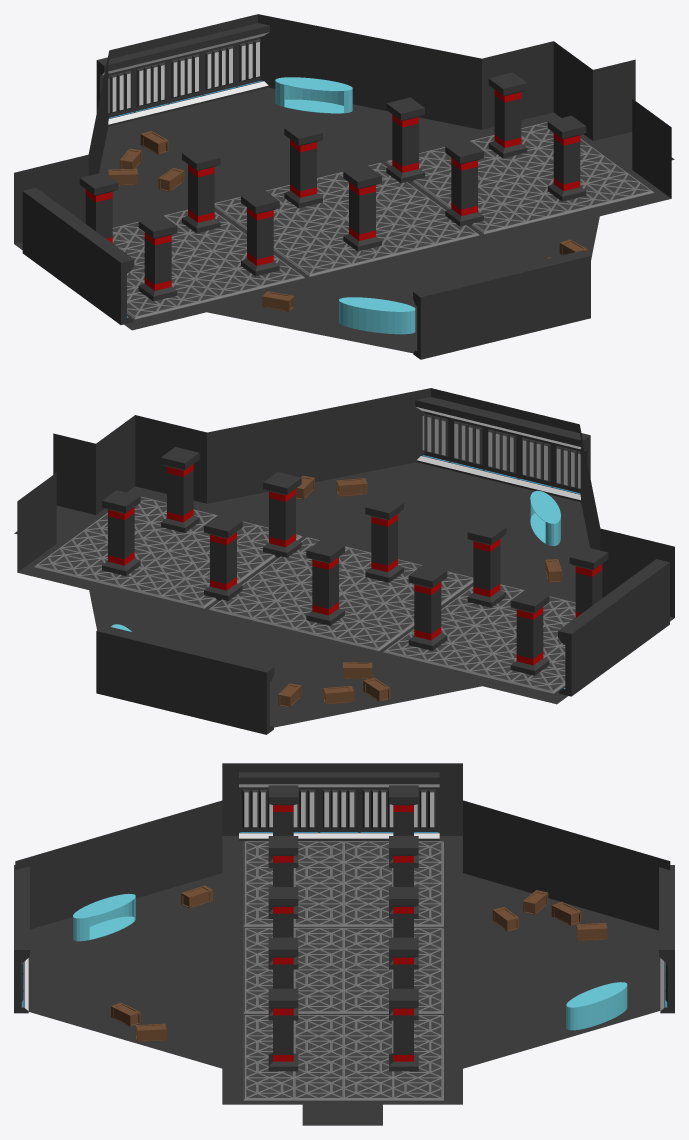
The picture shows the model from 3 angles, top to bottom: view 1: azimuth 30°, elevation 25°; view 2: azimuth 150°, elevation 25°; view 3: azimuth 270°, elevation 25°; orthographic projection.
Parts seen in each view (by area): view 1: LeftShip1-col-col, Plane.006-col, Plane.004-col, Plane.007-col, Wall1.005-col, ControlPanel.002-col, LeftShip1-col.001-col, LeftShip1-col.002-col, LeftShip1-col.009-col, Wall1.004-col, ControlPanel.001-col, Wall1.003-col (+20 smaller); view 2: LeftShip1-col-col, Plane.006-col, Plane.004-col, Plane.007-col, Wall1.006-col, LeftShip1-col.007-col, LeftShip1-col.010-col, LeftShip1-col.008-col, Wall1.009-col, Wall1.008-col, Wall1.010-col, Wall1.007-col (+20 smaller); view 3: LeftShip1-col-col, Plane.004-col, Plane.007-col, Plane.006-col, Wall1.013-col, Wall1.014-col, Wall1.011-col, ControlPanel.001-col, ControlPanel.002-col, LeftShip1-col.001-col, LeftShip1-col.002-col, Wall1.012-col (+14 smaller).
Boxes of the visible parts, x1=… form: LeftShip1-col-col: x1=14, y1=14, x2=674, y2=353; Plane.006-col: x1=214, y1=162, x2=479, y2=276; Plane.004-col: x1=385, y1=122, x2=654, y2=234; Plane.007-col: x1=112, y1=209, x2=304, y2=319; Wall1.005-col: x1=413, y1=283, x2=454, y2=359; ControlPanel.002-col: x1=275, y1=77, x2=352, y2=113; LeftShip1-col.001-col: x1=547, y1=115, x2=586, y2=201; LeftShip1-col.002-col: x1=488, y1=72, x2=527, y2=158; LeftShip1-col.009-col: x1=138, y1=215, x2=177, y2=301; Wall1.004-col: x1=447, y1=275, x2=488, y2=351; ControlPanel.001-col: x1=339, y1=297, x2=415, y2=334; Wall1.003-col: x1=481, y1=267, x2=522, y2=342; LeftShip1-col-col: x1=14, y1=388, x2=674, y2=727; Plane.006-col: x1=208, y1=537, x2=473, y2=651; Plane.004-col: x1=33, y1=496, x2=302, y2=608; Plane.007-col: x1=383, y1=584, x2=575, y2=694; Wall1.006-col: x1=232, y1=658, x2=274, y2=734; LeftShip1-col.007-col: x1=467, y1=521, x2=506, y2=607; LeftShip1-col.010-col: x1=510, y1=590, x2=549, y2=675; LeftShip1-col.008-col: x1=408, y1=565, x2=447, y2=650; Wall1.009-col: x1=130, y1=633, x2=171, y2=709; Wall1.008-col: x1=164, y1=642, x2=205, y2=718; Wall1.010-col: x1=96, y1=625, x2=137, y2=701; Wall1.007-col: x1=198, y1=650, x2=239, y2=726; LeftShip1-col-col: x1=15, y1=763, x2=670, y2=1125; Plane.004-col: x1=243, y1=1015, x2=443, y2=1100; Plane.007-col: x1=243, y1=841, x2=443, y2=927; Plane.006-col: x1=243, y1=928, x2=443, y2=1013; Wall1.013-col: x1=319, y1=772, x2=359, y2=840; Wall1.014-col: x1=359, y1=772, x2=399, y2=840; Wall1.011-col: x1=239, y1=772, x2=279, y2=840; ControlPanel.001-col: x1=73, y1=893, x2=135, y2=941; ControlPanel.002-col: x1=566, y1=982, x2=627, y2=1030; LeftShip1-col.001-col: x1=268, y1=988, x2=298, y2=1071; LeftShip1-col.002-col: x1=389, y1=988, x2=418, y2=1071; Wall1.012-col: x1=279, y1=772, x2=319, y2=840.
Size of the model in its own units: 34.36 by 4.06 by 32.97.
